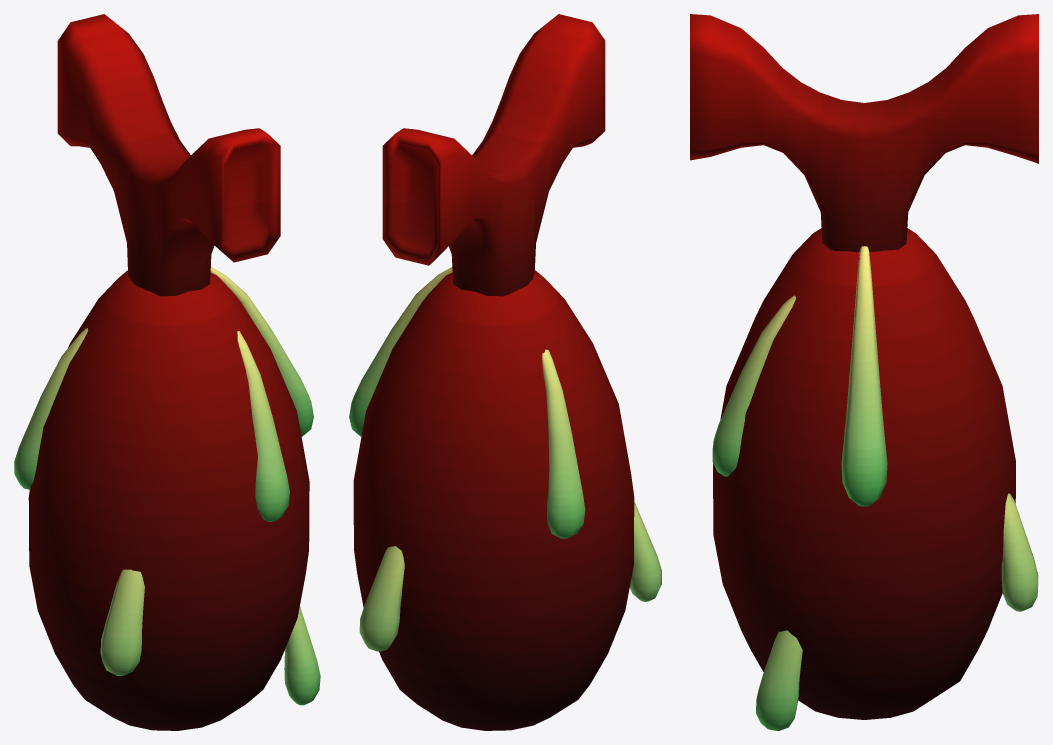
File: Demon_Flesh_Source_Adjusted.fbx
The picture shows the model from 3 angles, left to right: view 1: azimuth 30°, elevation 25°; view 2: azimuth 150°, elevation 25°; view 3: azimuth 270°, elevation 25°; orthographic projection. The views are drawn at different scales.
Parts seen in each view (by area): view 1: Demon_Flesh_Source_Adjusted; view 2: Demon_Flesh_Source_Adjusted; view 3: Demon_Flesh_Source_Adjusted.
Part boxes in pixels (x1,y1,x2,y2): Demon_Flesh_Source_Adjusted: (14, 14, 320, 730); Demon_Flesh_Source_Adjusted: (349, 14, 661, 730); Demon_Flesh_Source_Adjusted: (690, 14, 1038, 730).
Size of the model in its own units: 6.47 by 14.95 by 6.91.
